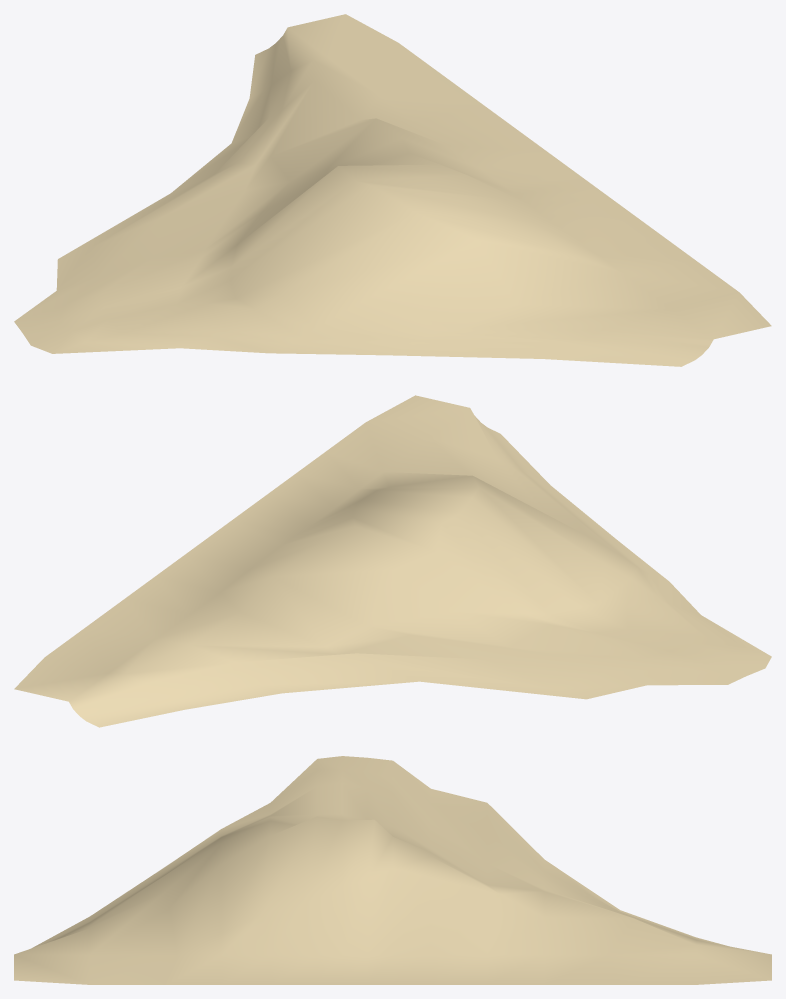
Rendered from Ground_02.fbx.
3 views of the same model, one above another, from view 1: azimuth 30°, elevation 25°; view 2: azimuth 150°, elevation 25°; view 3: azimuth 270°, elevation 25° (orthographic). The views are drawn at different scales.
Parts seen in each view (by area): view 1: Ground_02; view 2: Ground_02; view 3: Ground_02.
Boxes of the visible parts, x1,y1,x2,y2 form: Ground_02: (14, 14, 771, 366); Ground_02: (14, 395, 771, 727); Ground_02: (14, 756, 771, 984).
Bounding box in the file's own units: 460 × 70.95 × 600.
